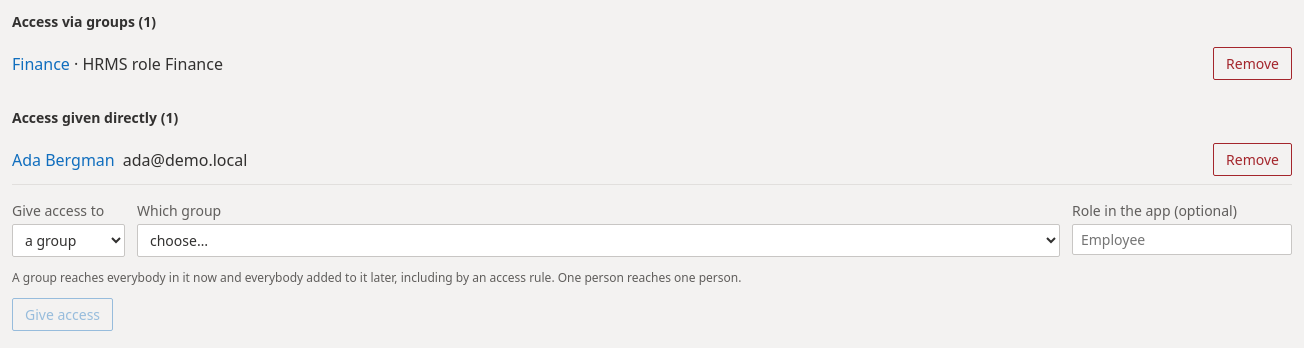
Test: removing access asks first
The width and height of the screenshot is (1304, 348).
Click the button "Remove" in the row of "· HRMS role".
click(1253, 64)  # box [1213, 47, 1292, 80]
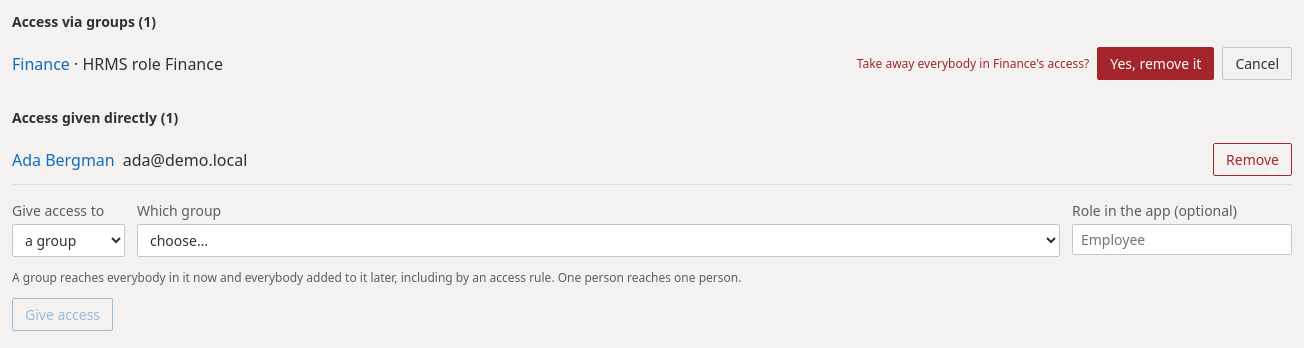
Check: the text "Take away everybody in Finance's access?" is shown, box [857, 55, 1089, 72]
